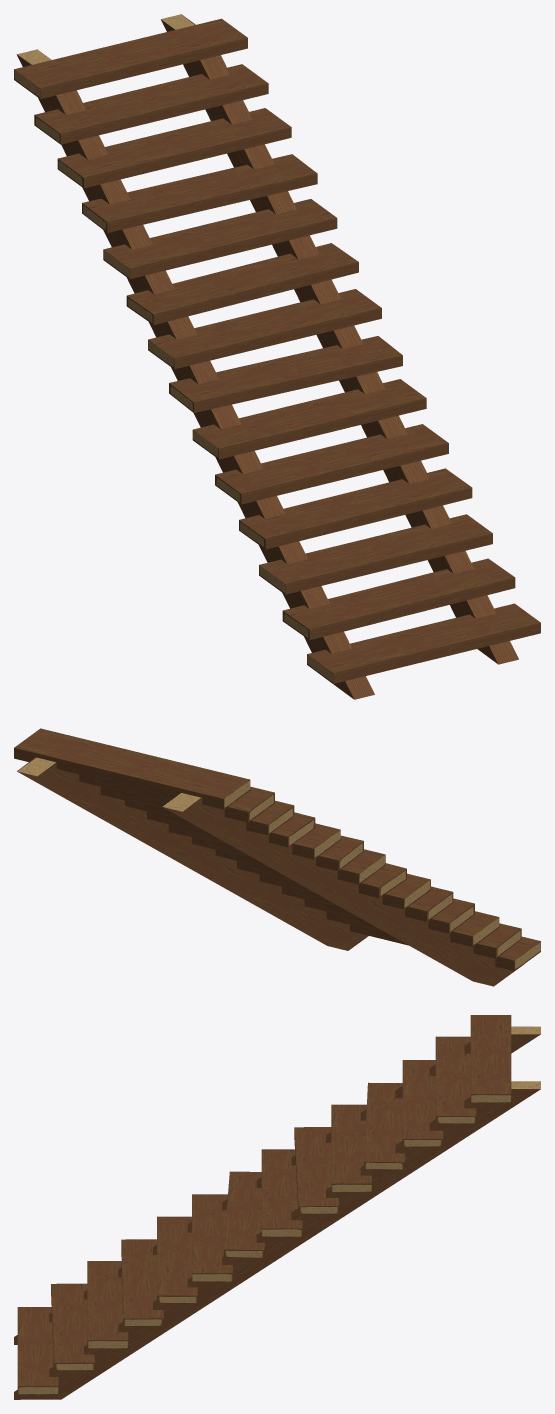
Rendered from Stair_Interior_Simple.gltf.
3 views of the same model, one above another, from view 1: azimuth 30°, elevation 25°; view 2: azimuth 150°, elevation 25°; view 3: azimuth 270°, elevation 25° (orthographic). The views are drawn at different scales.
Parts seen in each view (by area): view 1: Stair_Interior_Simple; view 2: Stair_Interior_Simple; view 3: Stair_Interior_Simple.
Part boxes in pixels (x1,y1,x2,y2): Stair_Interior_Simple: [14, 14, 540, 699]; Stair_Interior_Simple: [14, 728, 540, 986]; Stair_Interior_Simple: [14, 1015, 540, 1399].
Bounding box in the file's own units: 1.68 × 3.03 × 4.62.
1 material, 1 textured.
